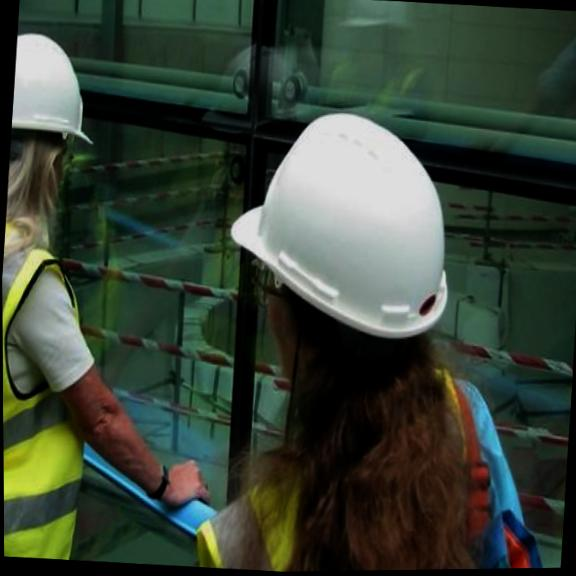safety_vest: (190, 344, 474, 573), (2, 237, 104, 562)
